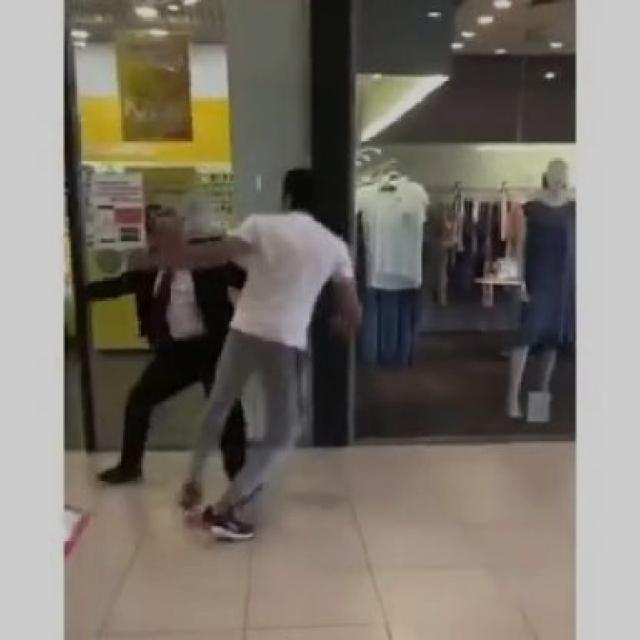fight: (48, 165, 382, 563)
